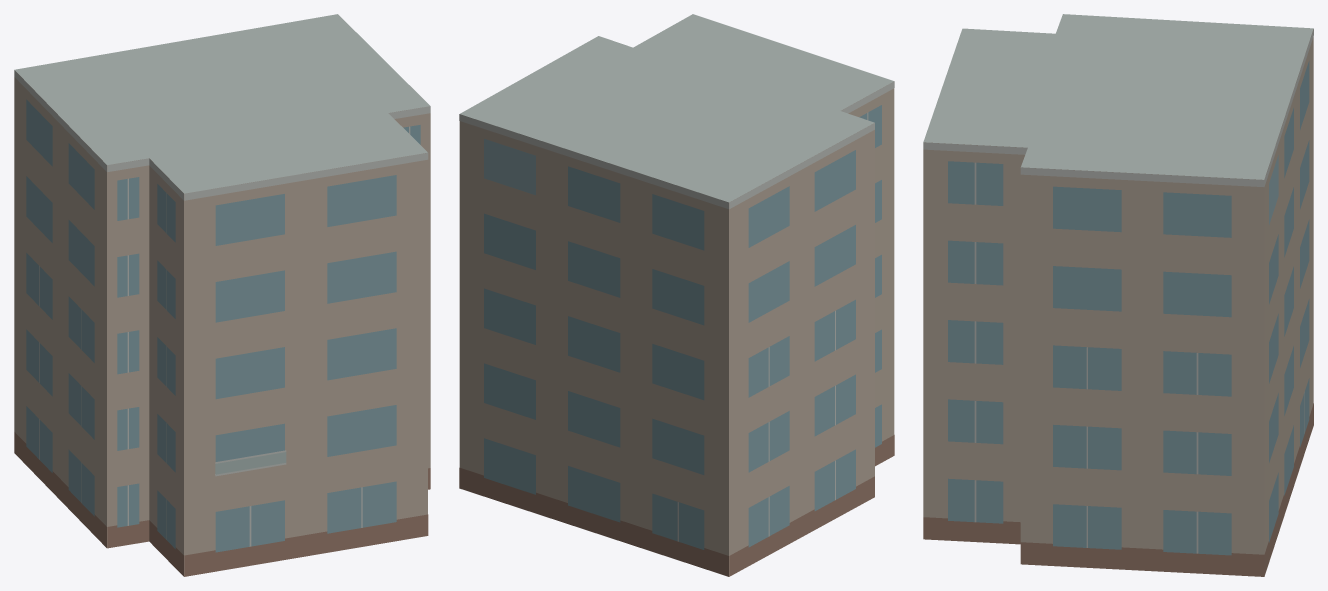
Rendered from survey-upis-32662471.glb.
3 renders of one model, left to right at view 1: azimuth 30°, elevation 25°; view 2: azimuth 150°, elevation 25°; view 3: azimuth 270°, elevation 25°, orthographic. The views are drawn at different scales.
Visible parts, largest first — view 1: survey-upis-32662471.tmp; view 2: survey-upis-32662471.tmp; view 3: survey-upis-32662471.tmp.
Boxes of the visible parts, x1,y1,x2,y2 form: survey-upis-32662471.tmp: [14, 14, 430, 576]; survey-upis-32662471.tmp: [459, 14, 894, 576]; survey-upis-32662471.tmp: [923, 14, 1313, 576].
Bounding box in the file's own units: 11.88 × 13.25 × 11.82.
